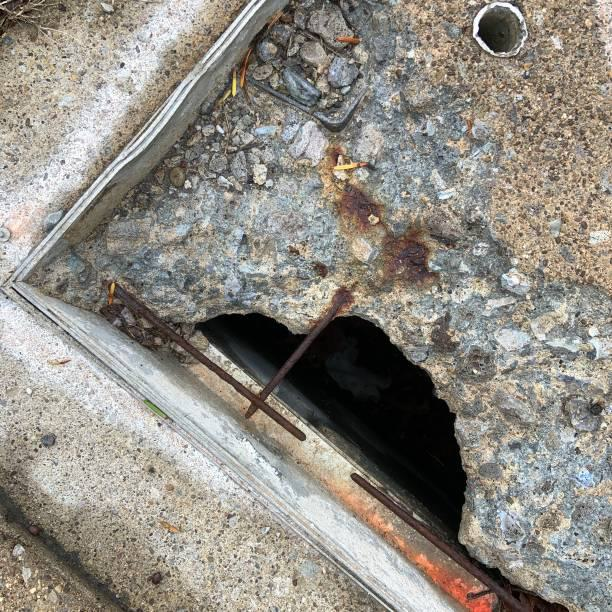Exposed reinforcement: (108, 282, 307, 442), (350, 472, 530, 612), (244, 291, 349, 420)
Spalling: (25, 1, 612, 612), (194, 310, 468, 542), (476, 5, 524, 54)
